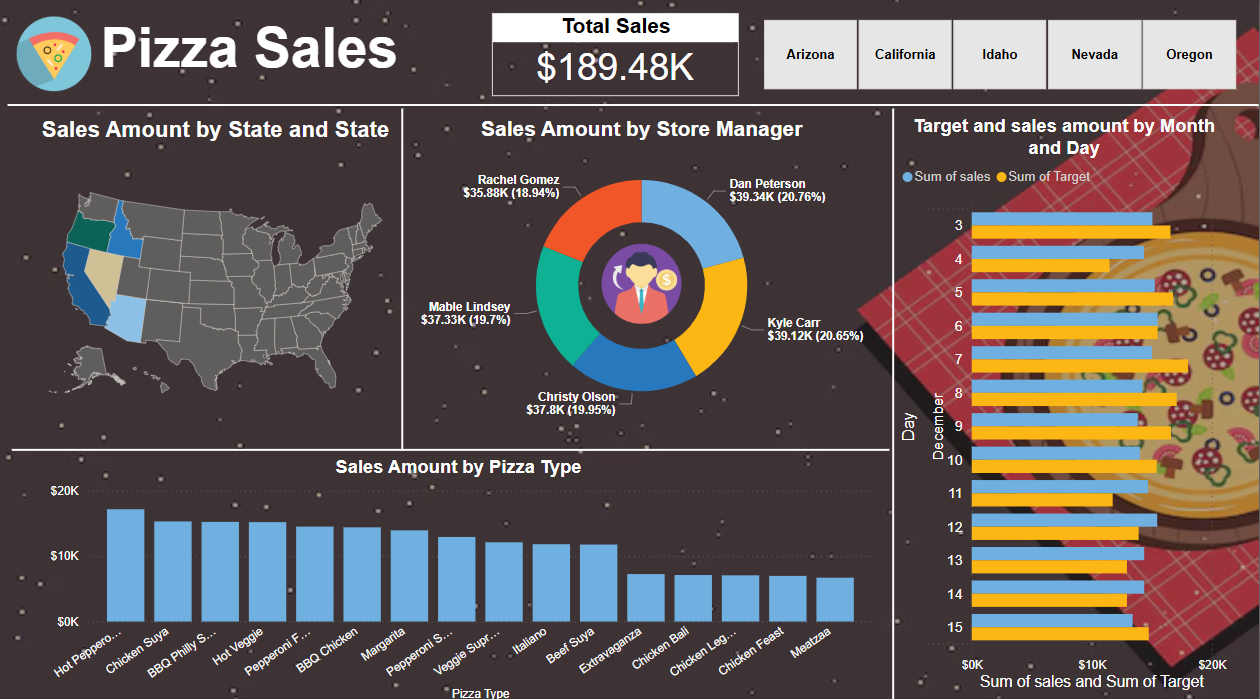

The page's visual inventory and layout, read from the dashboard file:
{"tool":"powerbi","page":{"name":"Page 1","canvas":[1280,720],"ordinal":0},"visuals":[{"type":"image","box":[13.7,15.5,85.9,85.9],"z":0},{"type":"textbox","box":[98.4,15.9,455.9,105.6],"z":1000},{"type":"card","title":"Total Sales","fields":{"Values":["Sales.sales"]},"box":[500.7,17.4,250.4,83.9],"z":2000},{"type":"slicer","fields":{"Values":["Sales.Branch"]},"box":[750.6,17.2,529,84.2],"z":3000},{"type":"shapeMap","title":"Sales Amount by State and State","fields":{"Series":["Sales.Branch"],"Category":["Sales.Branch"]},"box":[27.5,123,385,331.4],"z":4000},{"type":"donutChart","title":"Sales Amount by Store Manager","fields":{"Y":["Sales.sales"],"Category":["Branch Data.Manager"]},"box":[412.4,123,480.5,318.4],"z":5000},{"type":"image","box":[554.3,246,196.8,92.6],"z":6000},{"type":"columnChart","title":"Sales Amount by Pizza Type","fields":{"Category":["Sales.Pizza Type"],"Y":["Sales.sales"]},"box":[40.5,467.4,852.4,253.3],"z":7000},{"type":"clusteredBarChart","title":"Target and sales amount by Month and Day ","fields":{"Category":["Daily Target.Day.Variation.Date Hierarchy.Month","Daily Target.Day.Variation.Date Hierarchy.Day"],"Y":["Sales.sales","Daily Target.Target"]},"box":[911.7,121.6,340.1,589],"z":8000},{"type":"shape","box":[13,454.4,891.5,13],"z":9000},{"type":"shape","box":[904.5,114.3,7.2,606.4],"z":10000},{"type":"shape","box":[406.7,114.3,5.8,347.3],"z":11000},{"type":"shape","box":[8.7,104.2,1270.6,13],"z":12000}]}

Visuals, with their boxes in screenshot pixels (x1, y1, x2, y2), scaled from the page's 1280x720 canvas onto the 1260x699 screenshot:
image: <bbox>13, 15, 98, 98</bbox>
textbox: <bbox>97, 15, 546, 118</bbox>
"Total Sales" card: <bbox>493, 17, 739, 98</bbox>
slicer - Sales.Branch: <bbox>739, 17, 1259, 98</bbox>
"Sales Amount by State and State" shapeMap: <bbox>27, 119, 406, 441</bbox>
"Sales Amount by Store Manager" donutChart: <bbox>406, 119, 879, 429</bbox>
image: <bbox>546, 239, 739, 329</bbox>
"Sales Amount by Pizza Type" columnChart: <bbox>40, 454, 879, 698</bbox>
"Target and sales amount by Month and Day " clusteredBarChart: <bbox>897, 118, 1232, 690</bbox>
shape: <bbox>13, 441, 890, 454</bbox>
shape: <bbox>890, 111, 897, 698</bbox>
shape: <bbox>400, 111, 406, 448</bbox>
shape: <bbox>9, 101, 1259, 114</bbox>
